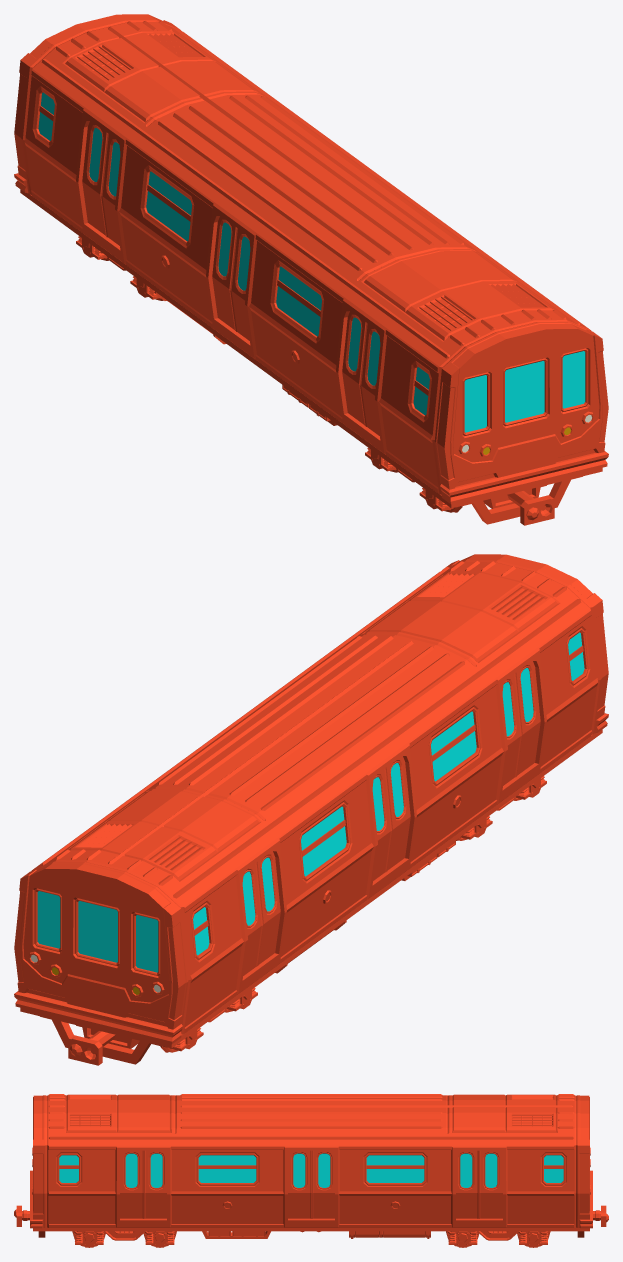
Rendered from SM_Carriage_Overground_Clean_City.fbx.
3 views of the same model, one above another, from view 1: azimuth 30°, elevation 25°; view 2: azimuth 150°, elevation 25°; view 3: azimuth 270°, elevation 25° (orthographic). The views are drawn at different scales.
Visible parts, largest first — view 1: SM_Carriage_Overground_Clean_City_Base, SM_Carriage_Overground_Clean_City_Joint_F, SM_Carriage_Overground_Clean_City_Chassis_F; view 2: SM_Carriage_Overground_Clean_City_Base, SM_Carriage_Overground_Clean_City_Joint_B, SM_Carriage_Overground_Clean_City_Chassis_B, SM_Carriage_Overground_Clean_City_Chassis_F; view 3: SM_Carriage_Overground_Clean_City_Base, SM_Carriage_Overground_Clean_City_Chassis_B, SM_Carriage_Overground_Clean_City_Chassis_F, SM_Carriage_Overground_Clean_City_Joint_B, SM_Carriage_Overground_Clean_City_Joint_F.
Part boxes in pixels (x1=…): SM_Carriage_Overground_Clean_City_Base: x1=14, y1=14, x2=608, y2=524; SM_Carriage_Overground_Clean_City_Joint_F: x1=507, y1=491, x2=554, y2=525; SM_Carriage_Overground_Clean_City_Chassis_F: x1=365, y1=447, x2=546, y2=511; SM_Carriage_Overground_Clean_City_Base: x1=14, y1=554, x2=608, y2=1064; SM_Carriage_Overground_Clean_City_Joint_B: x1=68, y1=1031, x2=115, y2=1065; SM_Carriage_Overground_Clean_City_Chassis_B: x1=76, y1=987, x2=257, y2=1051; SM_Carriage_Overground_Clean_City_Chassis_F: x1=460, y1=776, x2=546, y2=839; SM_Carriage_Overground_Clean_City_Base: x1=30, y1=1094, x2=592, y2=1238; SM_Carriage_Overground_Clean_City_Chassis_B: x1=448, y1=1231, x2=548, y2=1247; SM_Carriage_Overground_Clean_City_Chassis_F: x1=74, y1=1231, x2=174, y2=1247; SM_Carriage_Overground_Clean_City_Joint_B: x1=593, y1=1205, x2=608, y2=1226; SM_Carriage_Overground_Clean_City_Joint_F: x1=14, y1=1205, x2=29, y2=1226.
Size of the model in its own units: 3.59 by 4.1 by 16.86.
